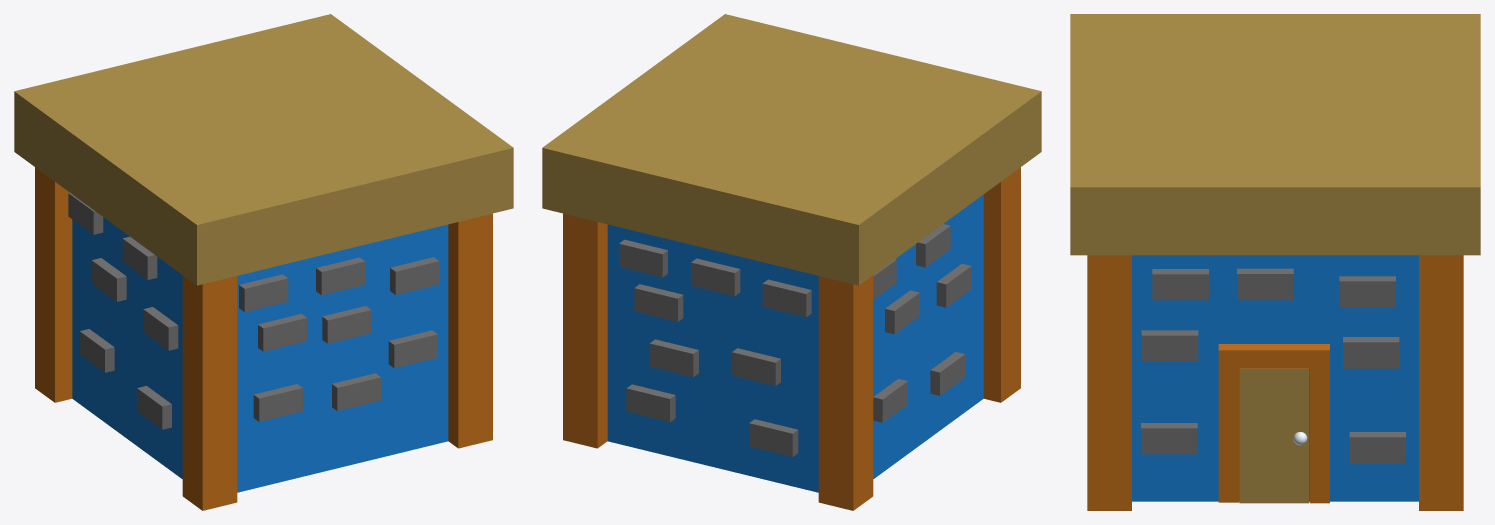
The model's file is House_2.fbx.
3 renders of one model, left to right at view 1: azimuth 30°, elevation 25°; view 2: azimuth 150°, elevation 25°; view 3: azimuth 270°, elevation 25°, orthographic. The views are drawn at different scales.
Parts seen in each view (by area): view 1: Cube.111, Cube.106, Cube.107, Cube.108, Cube.109, Cube.133, Cube.135, Cube.139, Cube.136, Cube.140, Cube.137, Cube.134 (+7 smaller); view 2: Cube.111, Cube.106, Cube.109, Cube.110, Cube.107, Cube.130, Cube.132, Cube.128, Cube.126, Cube.127, Cube.129, Cube.131 (+7 smaller); view 3: Cube.111, Cube.106, Cube.108, Cube.110, Cube.144, Cube.142, Cube.143, Cube.141, Cube.121, Cube.123, Cube.118, Cube.119 (+3 smaller).
Part boxes in pixels (box(x1,y1,x2,y2)): Cube.111: box(14, 14, 513, 285); Cube.106: box(72, 217, 448, 492); Cube.107: box(182, 275, 237, 510); Cube.108: box(448, 213, 492, 448); Cube.109: box(35, 167, 72, 402); Cube.133: box(239, 274, 288, 312); Cube.135: box(316, 257, 365, 295); Cube.139: box(390, 257, 439, 294); Cube.136: box(253, 384, 302, 421); Cube.140: box(388, 330, 437, 368); Cube.137: box(322, 306, 371, 343); Cube.134: box(258, 314, 306, 351); Cube.111: box(542, 14, 1041, 285); Cube.106: box(607, 194, 983, 492); Cube.109: box(818, 275, 873, 510); Cube.110: box(563, 213, 607, 448); Cube.107: box(983, 167, 1020, 402); Cube.130: box(626, 384, 675, 422); Cube.132: box(649, 339, 698, 377); Cube.128: box(762, 279, 811, 317); Cube.126: box(634, 284, 683, 321); Cube.127: box(691, 258, 740, 296); Cube.129: box(749, 419, 798, 456); Cube.131: box(732, 348, 780, 385); Cube.111: box(1070, 14, 1480, 255); Cube.106: box(1132, 255, 1418, 501); Cube.108: box(1087, 255, 1131, 510); Cube.110: box(1419, 255, 1463, 510); Cube.144: box(1239, 368, 1308, 503); Cube.142: box(1309, 368, 1329, 503); Cube.143: box(1218, 368, 1238, 502); Cube.141: box(1218, 344, 1329, 368); Cube.121: box(1237, 268, 1293, 300); Cube.123: box(1141, 330, 1198, 361); Cube.118: box(1339, 276, 1395, 307); Cube.119: box(1343, 337, 1399, 368).
Bounding box in the file's own units: 576 × 513 × 576.
